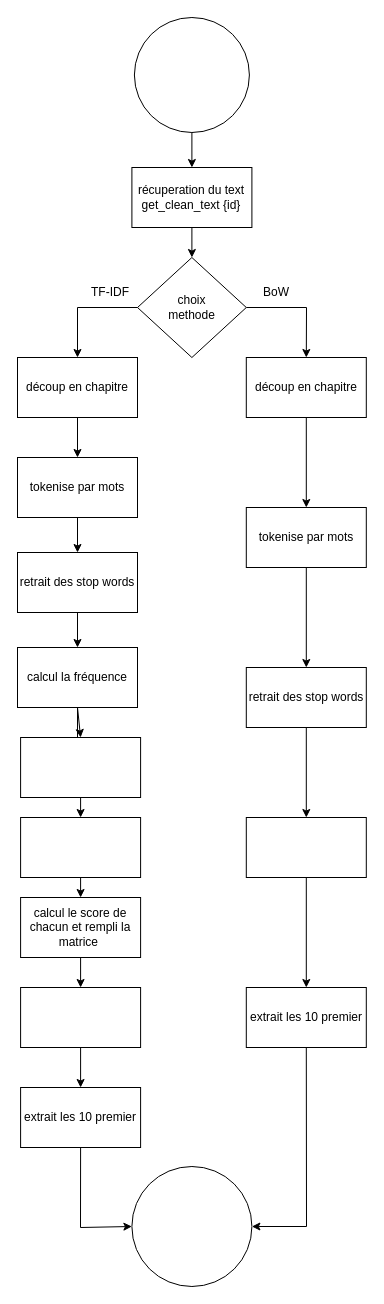
The diagram is 384 pixels wide and 1304 high, and some of its shapes have lost their labels. Each missing label, with the box of its shape:
calcul IDF de chacun: (20, 816, 141, 878)
calcule la fréquence: (245, 816, 366, 878)
filtre les mots trop rare ou trop présent: (20, 736, 141, 798)
Module topic: (133, 16, 249, 132)
pour chaque ligne (chapitre) trie les scores par ordre décroissant: (20, 986, 141, 1048)
retourne (dictionaire json) (chpitre -> mots): (131, 1166, 252, 1286)
